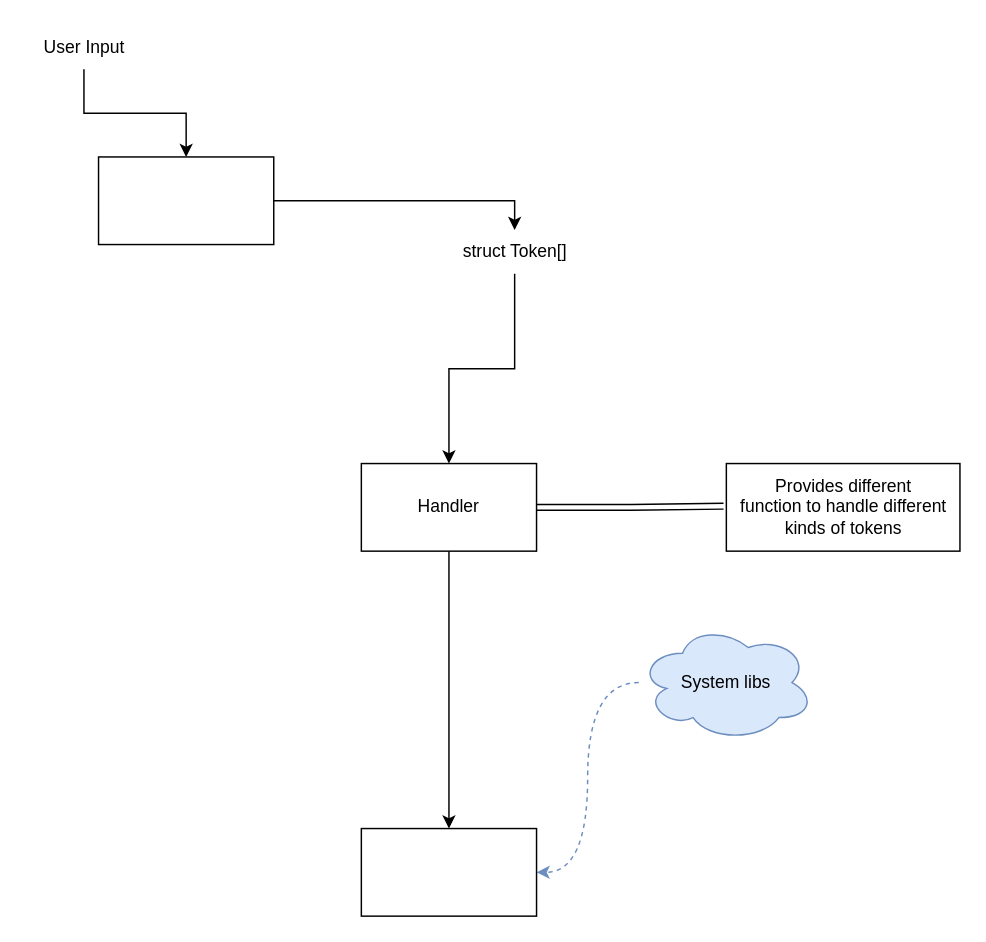
The diagram is 986 pixels wide and 942 high, and some of its shapes have lost their labels. The shapes that lost their labels are listed below. From the top down, each one's box as (x1, y1, x2, y2) in pixels, then its label:
(97, 155, 274, 245): Parser
(360, 827, 537, 916): Command executon
